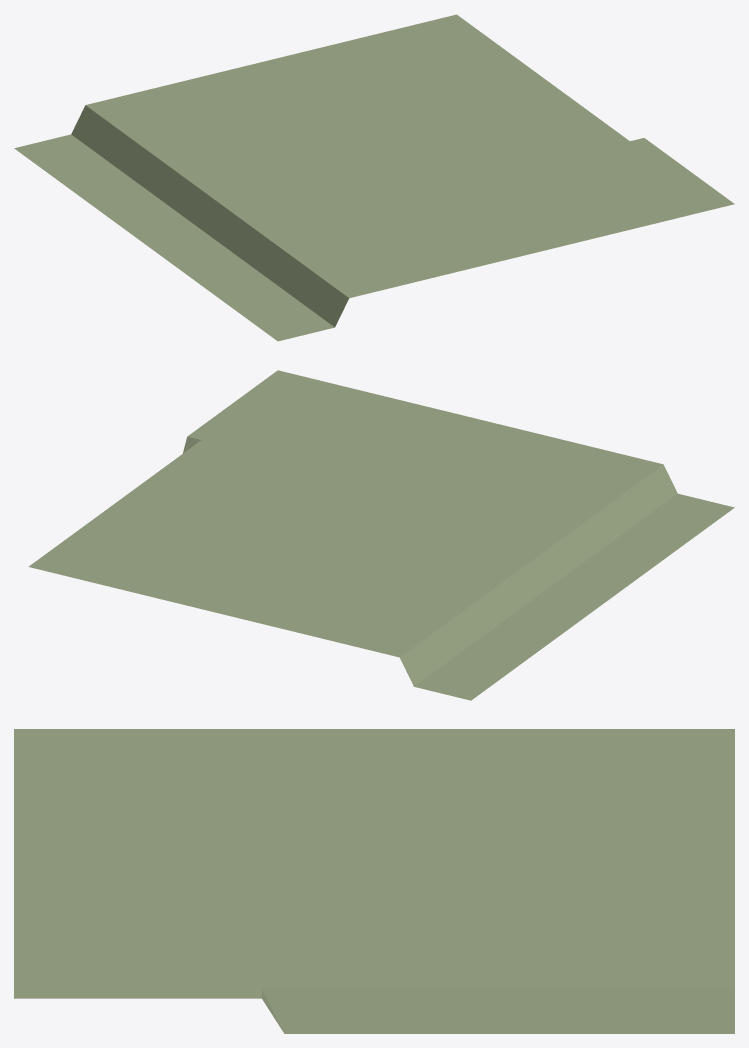
Rendered from canal-1-2.glb.
The picture shows the model from 3 angles, top to bottom: view 1: azimuth 30°, elevation 25°; view 2: azimuth 150°, elevation 25°; view 3: azimuth 270°, elevation 25°; orthographic projection. The views are drawn at different scales.
Parts seen in each view (by area): view 1: canal-1-2; view 2: canal-1-2; view 3: canal-1-2.
Boxes of the visible parts, <box> form: canal-1-2: <box>14,14,734,341</box>; canal-1-2: <box>28,370,734,700</box>; canal-1-2: <box>14,729,734,1033</box>.
Size of the model in its own units: 128 by 6.9 by 128.
